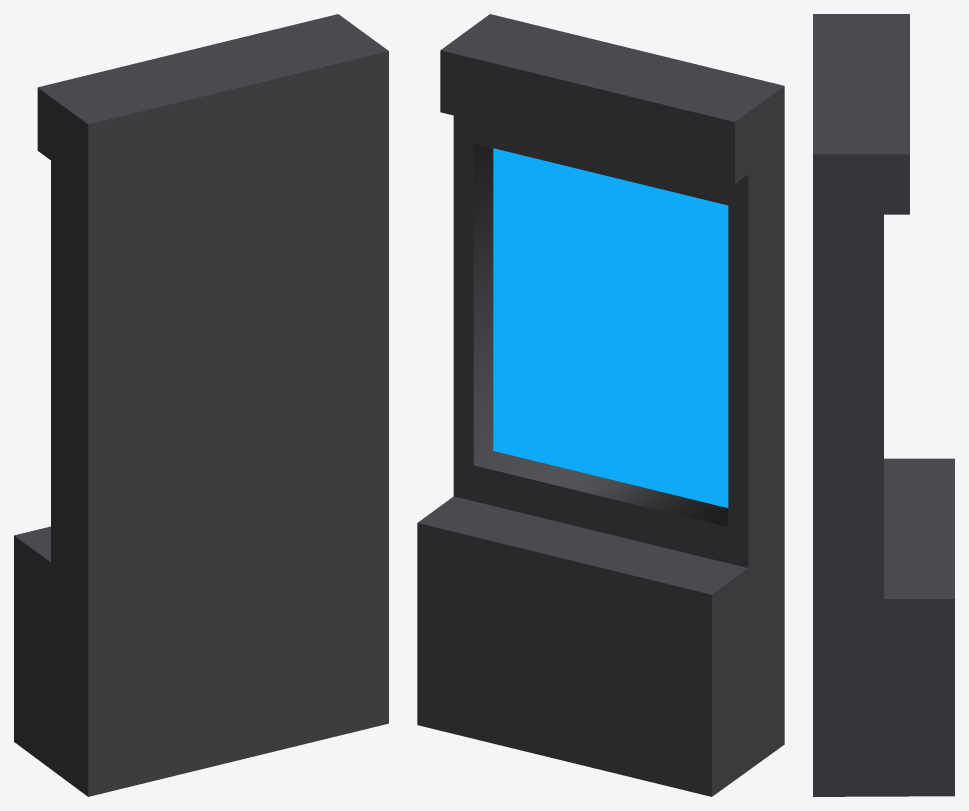
The model's file is Screenwall.fbx.
The picture shows the model from 3 angles, left to right: view 1: azimuth 30°, elevation 25°; view 2: azimuth 150°, elevation 25°; view 3: azimuth 270°, elevation 25°; orthographic projection. The views are drawn at different scales.
Parts seen in each view (by area): view 1: ScreenWall; view 2: ScreenWall; view 3: ScreenWall.
Boxes of the visible parts, box(x1,y1,x2,y2) form: ScreenWall: box(14, 14, 388, 796); ScreenWall: box(417, 14, 784, 796); ScreenWall: box(813, 14, 954, 796).
Size of the model in its own units: 187 by 80 by 400.
